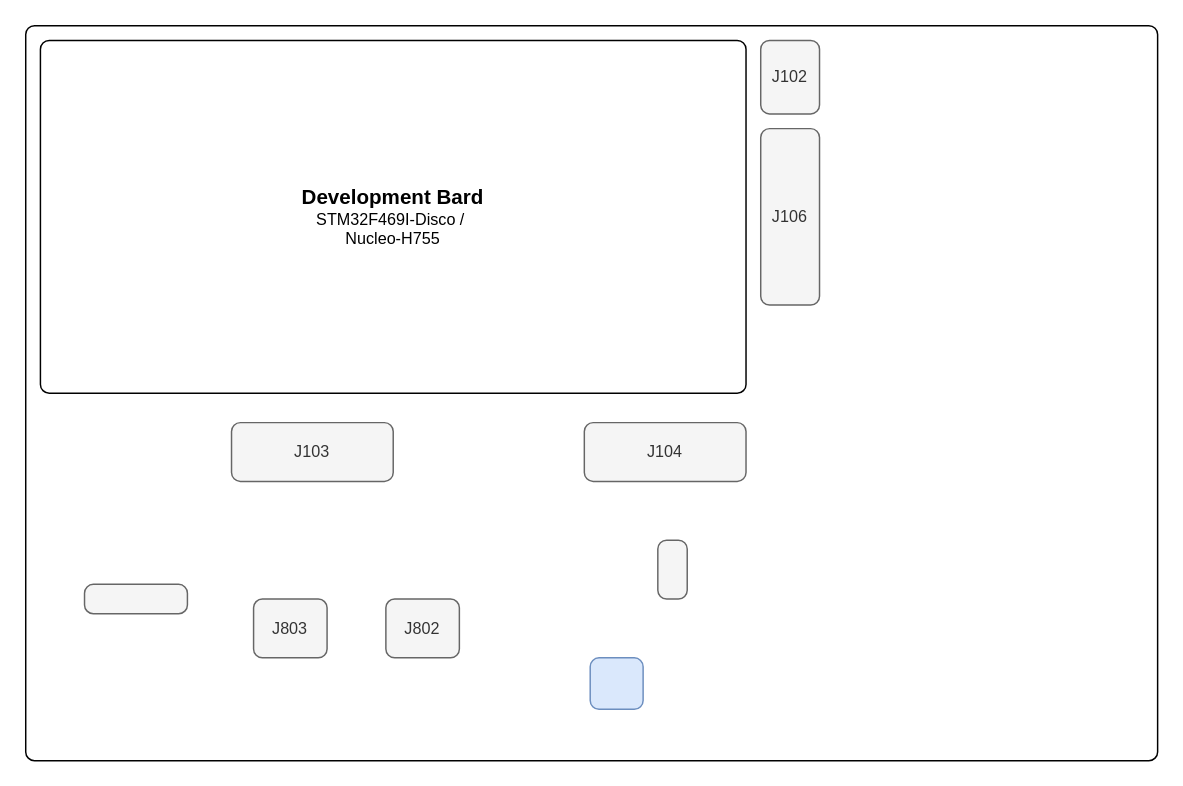
Some shapes in this 1183 by 786 pixel diagram are drawn without their labels. Each missing label, with the box of its shape:
J303: (83, 583, 187, 614)
J601: (589, 656, 643, 709)
J604: (656, 539, 687, 599)
